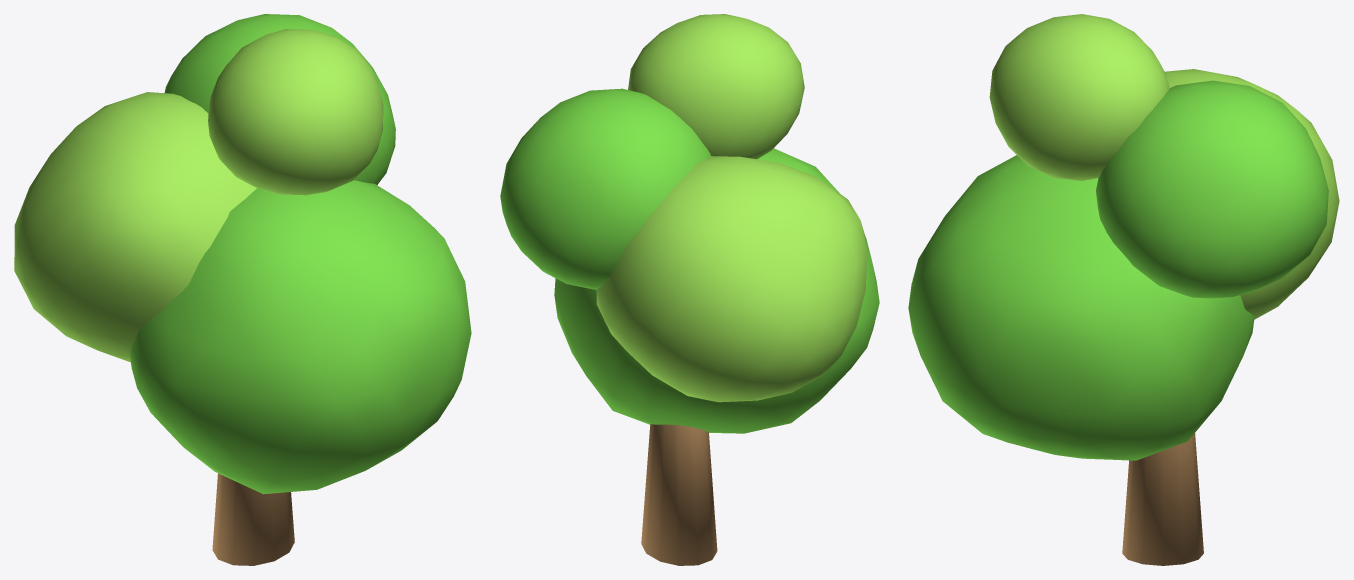
The model's file is tree_c.glb.
3 renders of one model, left to right at view 1: azimuth 30°, elevation 25°; view 2: azimuth 150°, elevation 25°; view 3: azimuth 270°, elevation 25°, orthographic. The views are drawn at different scales.
Parts seen in each view (by area): view 1: Tree; view 2: Tree; view 3: Tree.
Boxes of the visible parts, x1,y1,x2,y2 form: Tree: (14,14,471,565); Tree: (500,14,879,565); Tree: (908,14,1339,565).
Bounding box in the file's own units: 4.43 × 6.5 × 4.75.
